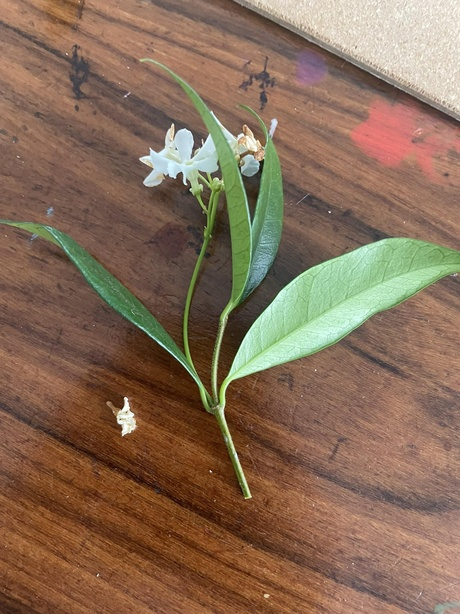leaf: (1, 214, 208, 421), (227, 228, 458, 412)
